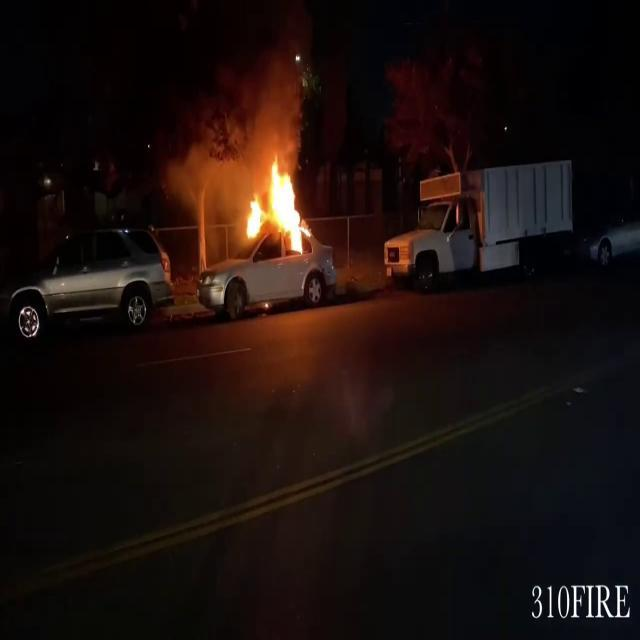Fire: (232, 150, 318, 256)
Smoke: (156, 32, 308, 186)
